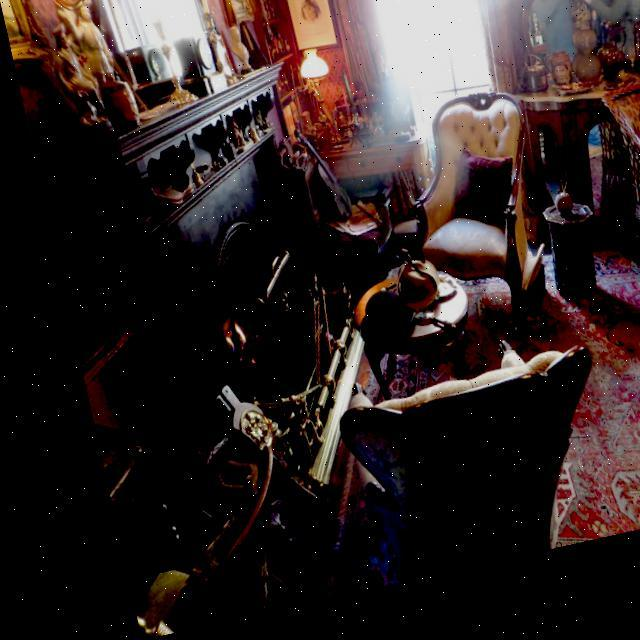Fire: (203, 317, 250, 379)
